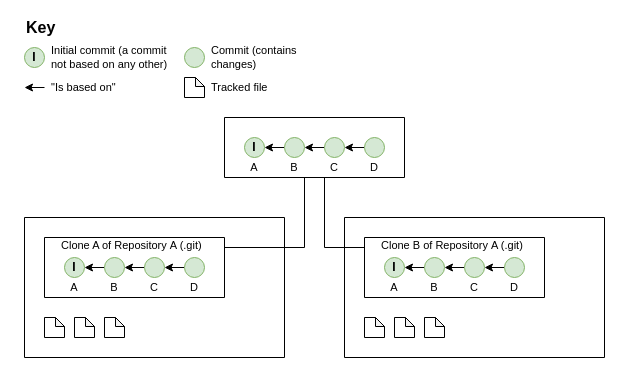
Some shapes in this 622 by 375 pixel diagram are drawn without their labels. Here are the shapes that lost their labels. From the top down, the box of each, then its label:
(224, 116, 404, 178): Repository A (abstract)
(24, 216, 284, 358): Git Root Directory (for Clone A of Repository A)
(344, 216, 604, 358): Git Root Directory (for Clone B of Repository A)
